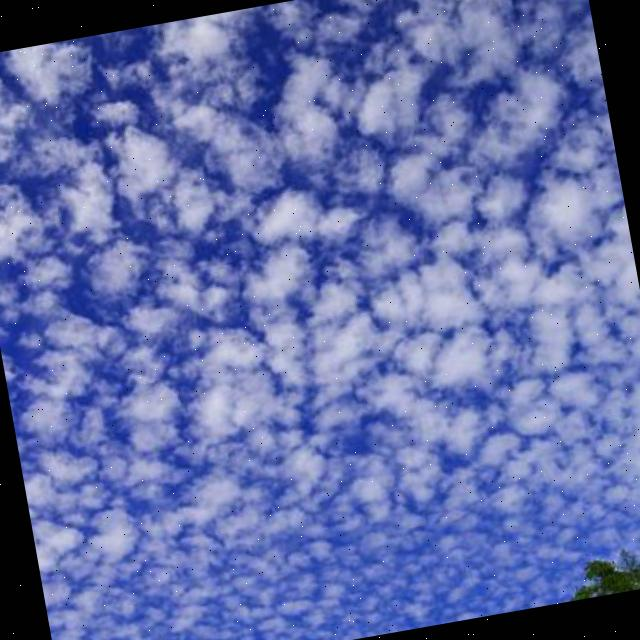Cc: (1, 1, 640, 546)
